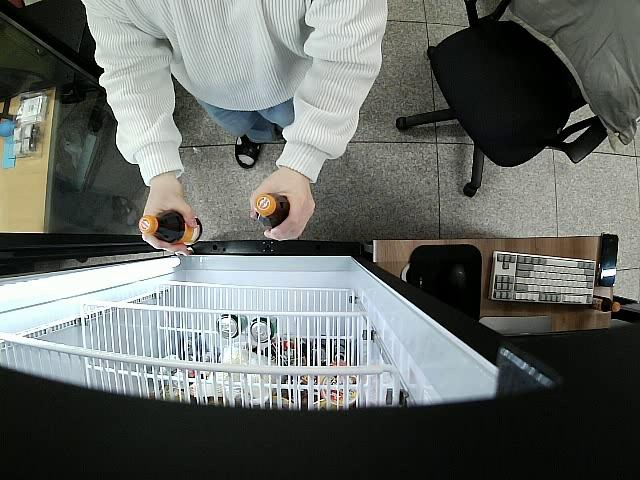00_hand: (249, 178, 315, 240), (141, 189, 196, 257)
17_vita500: (139, 209, 202, 246), (256, 194, 291, 231)
